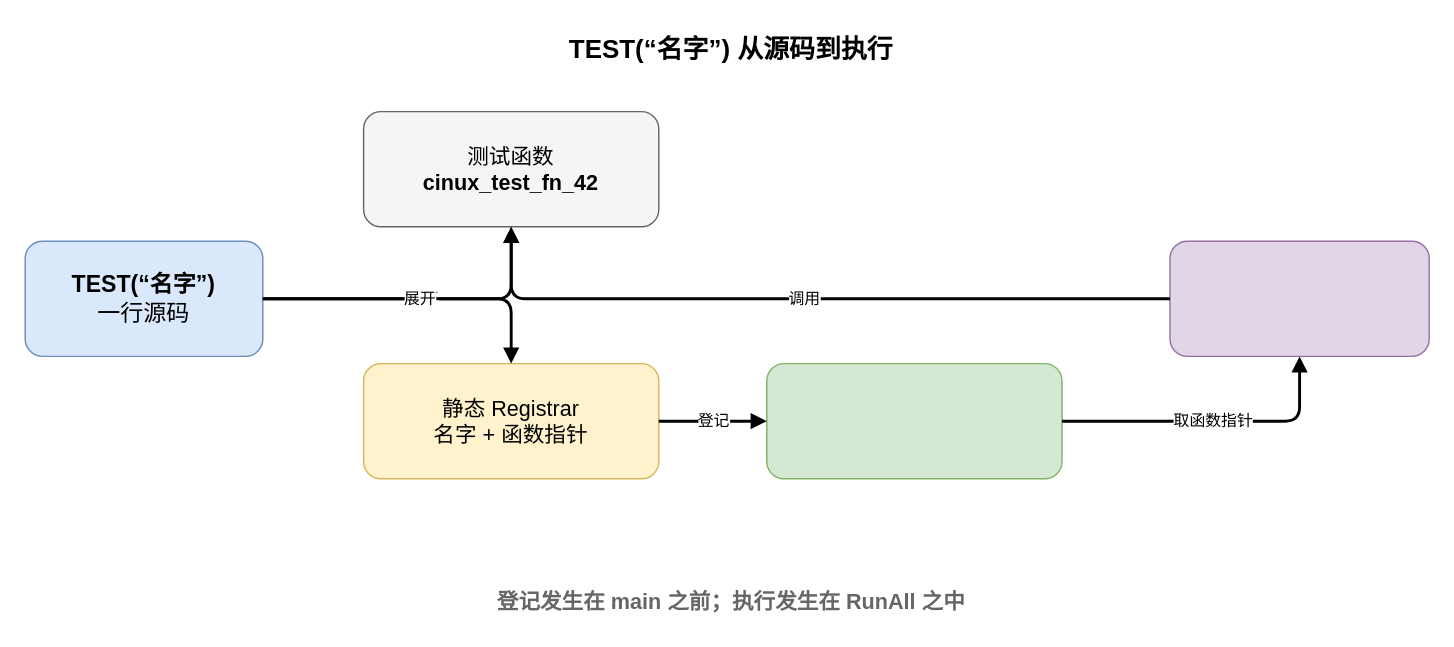
This 1454x647 diagram has some shape labels left out. The shapes that lost their labels are listed below. From the top down, each one's centre as x and y in pixels, then its label:
At point (1299, 298): "RunAll() 遍历 TestCase".
At point (913, 420): "main 之前构造 g_table[0..255]".
